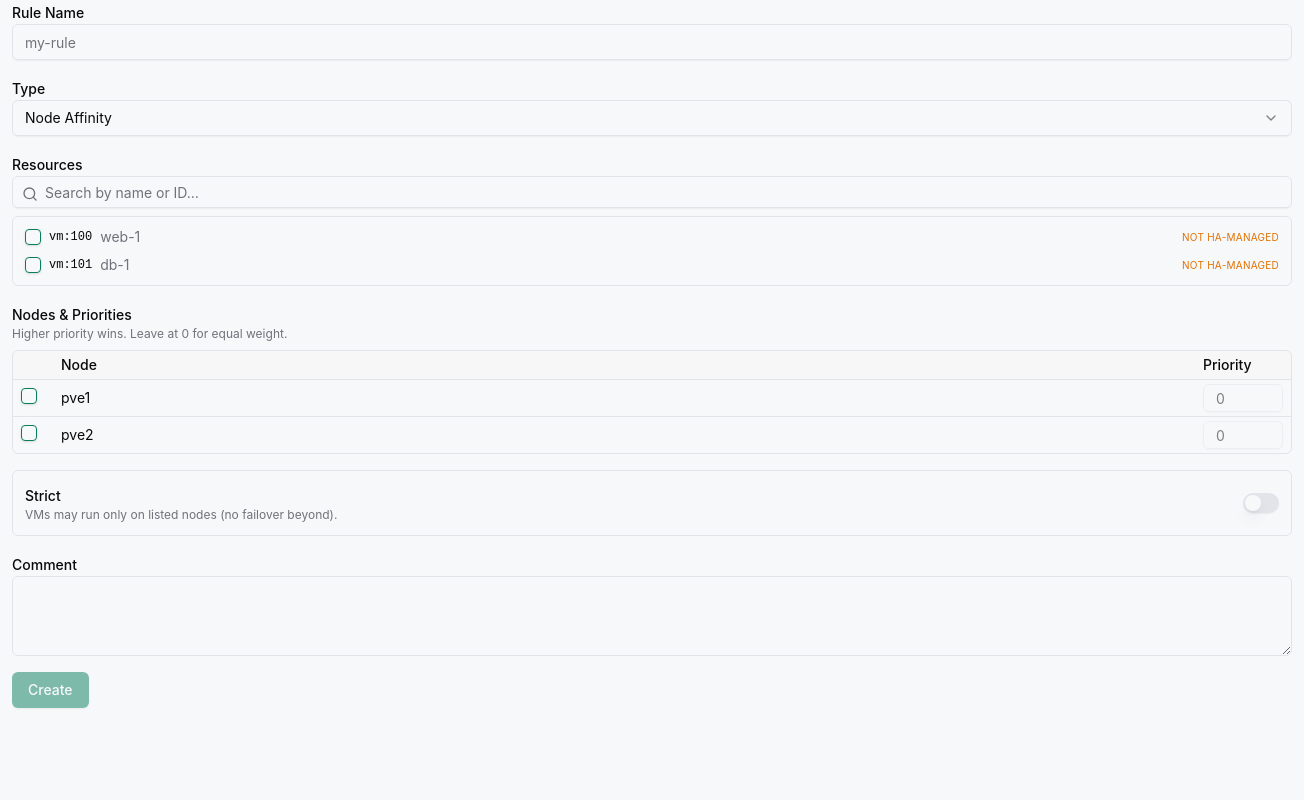
it: HARuleForm › filters the resource list via the search box
Expected: the text "web-1" is shown, [100,227,140,247]
Expected: the text "db-1" is shown, [100,255,130,275]
Type "web" into the field with placeholder "Search by name or ID…".
click(652, 192); type("web")  # box [12,176,1292,208]
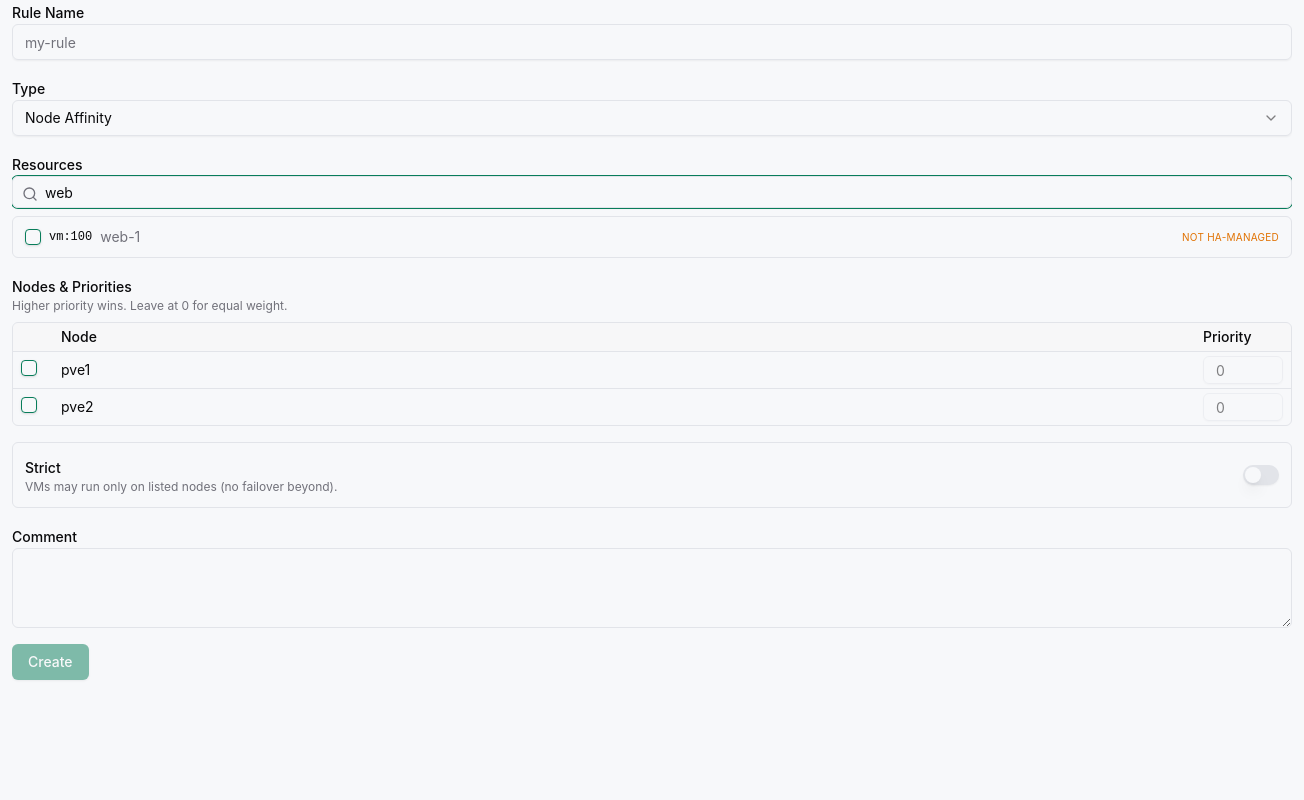
Expected: the text "web-1" is shown, [100,227,140,247]
Expected: the text "db-1" is gone
